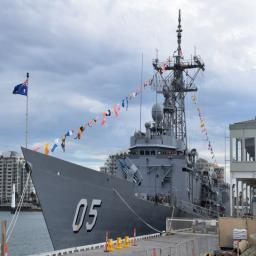Fragata: (20, 10, 231, 256)
